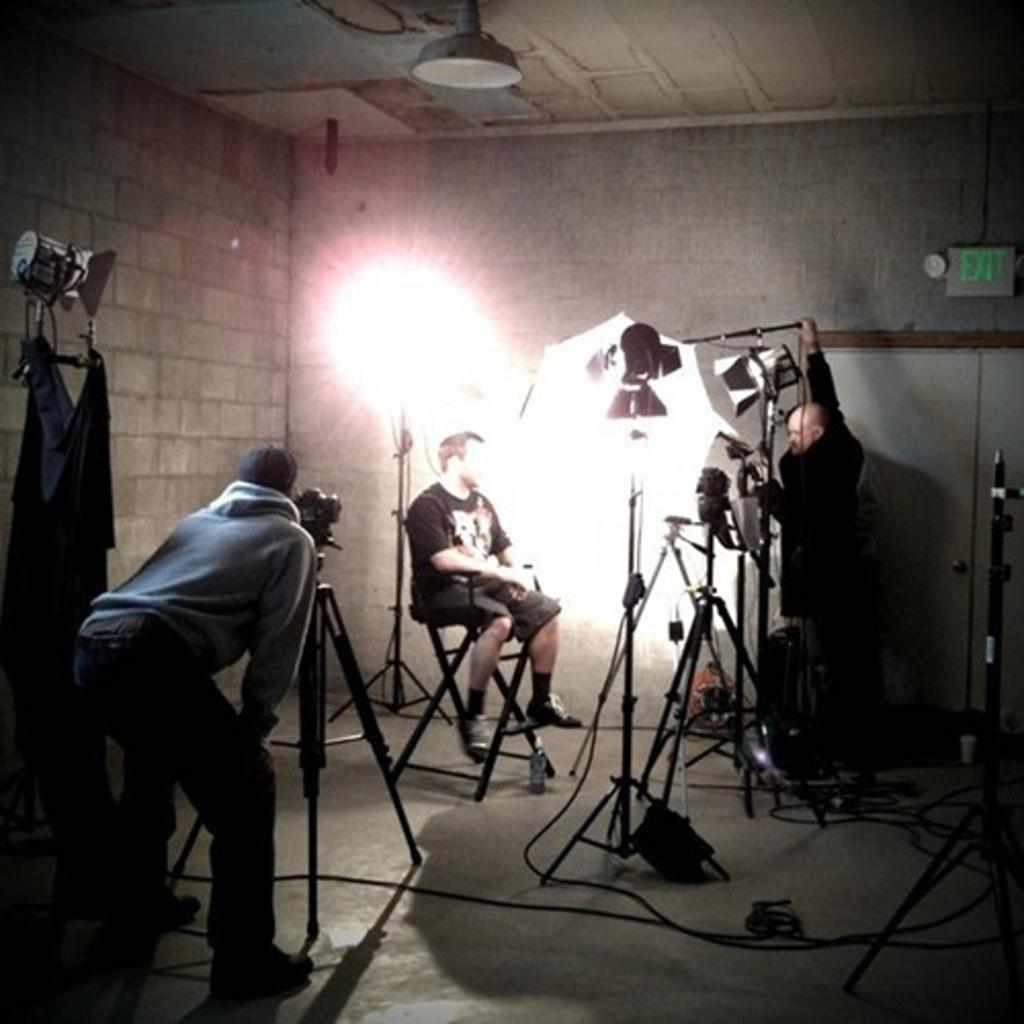face: (458, 441, 486, 486), (788, 411, 813, 455)
